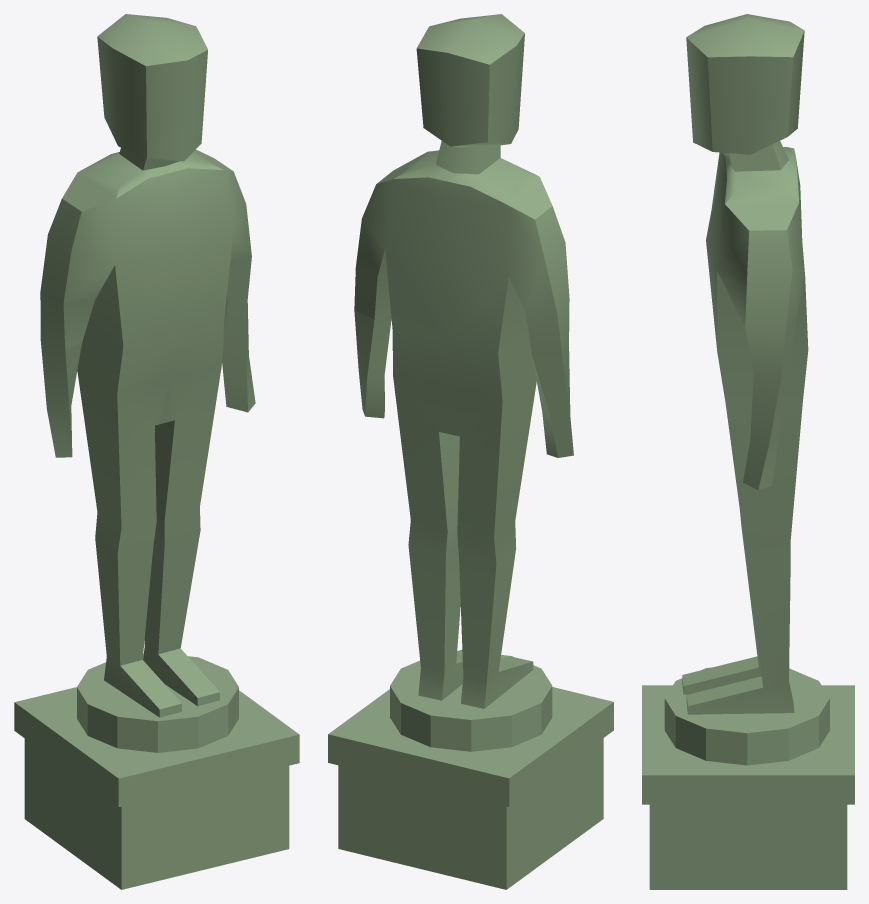
Rendered from Oscar.fbx.
3 views of the same model, side by side, from view 1: azimuth 30°, elevation 25°; view 2: azimuth 150°, elevation 25°; view 3: azimuth 270°, elevation 25° (orthographic).
Parts seen in each view (by area): view 1: Oscar; view 2: Oscar; view 3: Oscar.
Boxes of the visible parts, x1,y1,x2,y2 form: Oscar: [14, 14, 299, 889]; Oscar: [328, 14, 613, 889]; Oscar: [642, 14, 854, 889].
Bounding box in the file's own units: 10.33 × 38.55 × 8.98.
